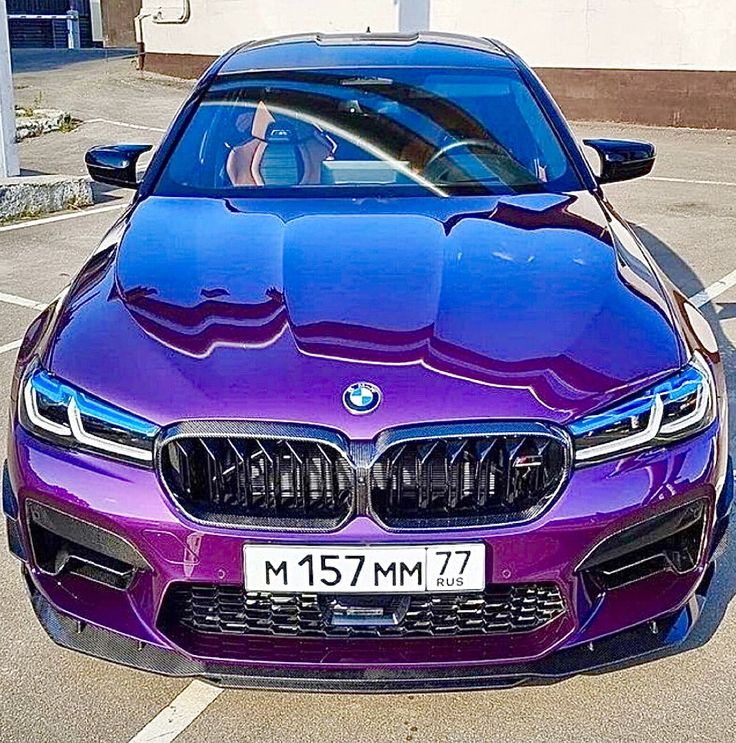plate: (245, 542, 487, 591)
